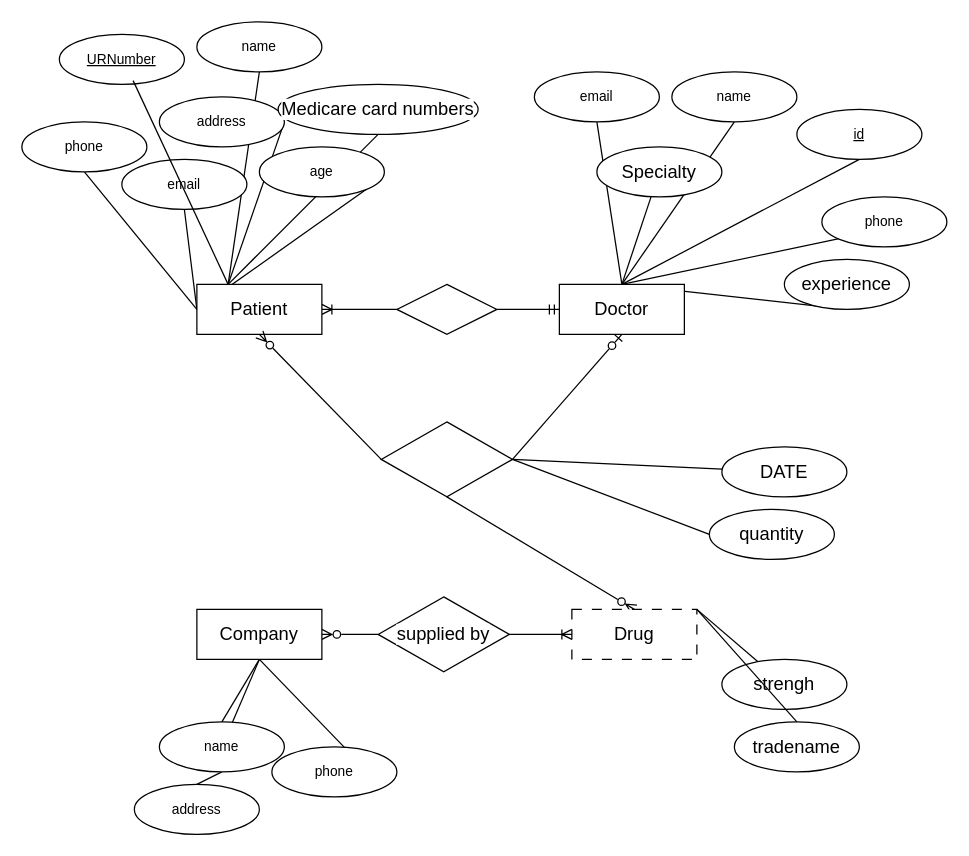
Image size: 969x856. Some labels were removed from this diagram. The centre of each missing label's shape, as x and y in pixels:
"give" goes at point 446,459.
"has" goes at point 446,308.
